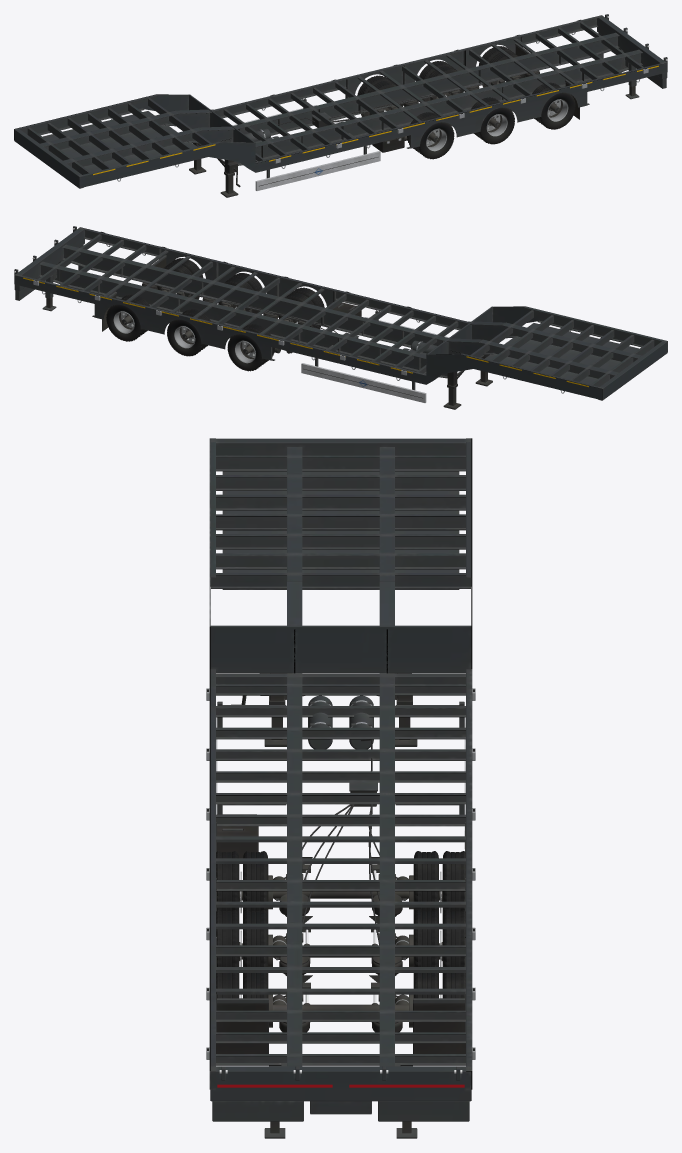
Rendered from lowbed-chassis.glb.
3 renders of one model, top to bottom at view 1: azimuth 30°, elevation 25°; view 2: azimuth 150°, elevation 25°; view 3: azimuth 270°, elevation 25°, orthographic. The views are drawn at different scales.
Parts seen in each view (by area): view 1: object 1, TwinWheel.001, TwinWheel.003, TwinWheel.005, TwinWheel, TwinWheel.002, TwinWheel.004; view 2: object 1, TwinWheel, TwinWheel.002, TwinWheel.004, TwinWheel.001, TwinWheel.003, TwinWheel.005; view 3: object 1, TwinWheel.002, TwinWheel.003, TwinWheel, TwinWheel.001, TwinWheel.004, TwinWheel.005.
Part boxes in pixels (x1,y1,x2,y2): object 1: (14,14,667,197); TwinWheel.001: (407,112,454,159); TwinWheel.003: (471,97,514,144); TwinWheel.005: (532,82,575,129); TwinWheel: (357,75,403,106); TwinWheel.002: (419,61,463,93); TwinWheel.004: (478,46,524,78); object 1: (14,226,667,409); TwinWheel: (227,324,274,371); TwinWheel.002: (167,309,210,356); TwinWheel.004: (106,294,149,341); TwinWheel.001: (278,287,324,318); TwinWheel.003: (218,273,262,305); TwinWheel.005: (157,258,203,290); object 1: (206,438,475,1138); TwinWheel.002: (413,910,465,978); TwinWheel.003: (216,910,268,978); TwinWheel: (413,851,465,919); TwinWheel.001: (216,851,268,919); TwinWheel.004: (413,973,465,998); TwinWheel.005: (216,973,268,998).
Size of the model in its own units: 13.26 by 1.52 by 2.61.
8 materials, 6 textured.
